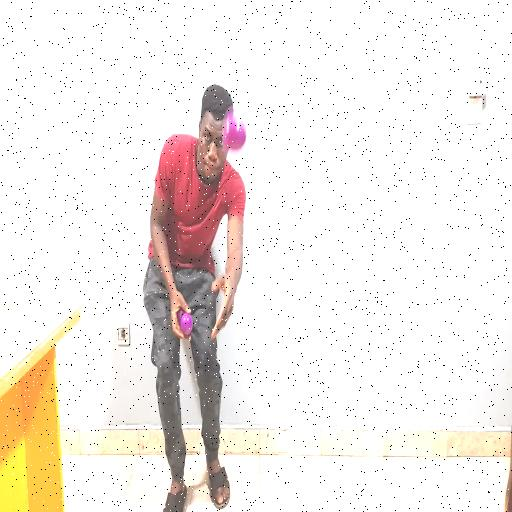plastic-ball: (222, 108, 245, 151)
